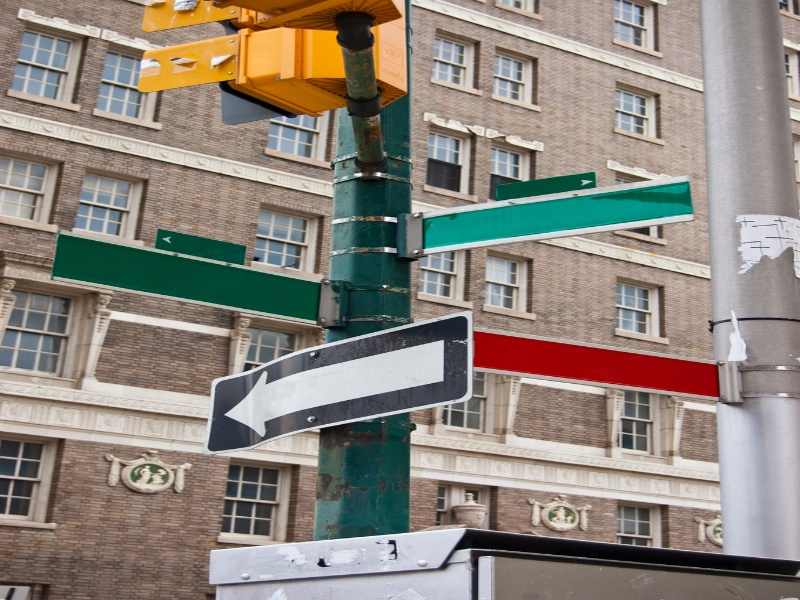left_direction: (161, 314, 501, 434)
